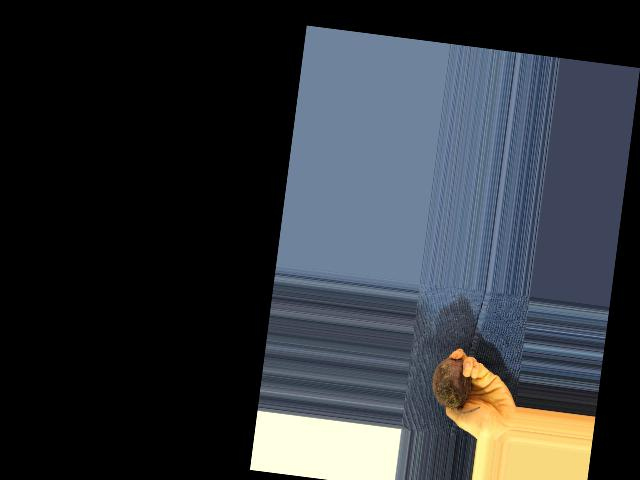beet: (429, 355, 487, 416)
